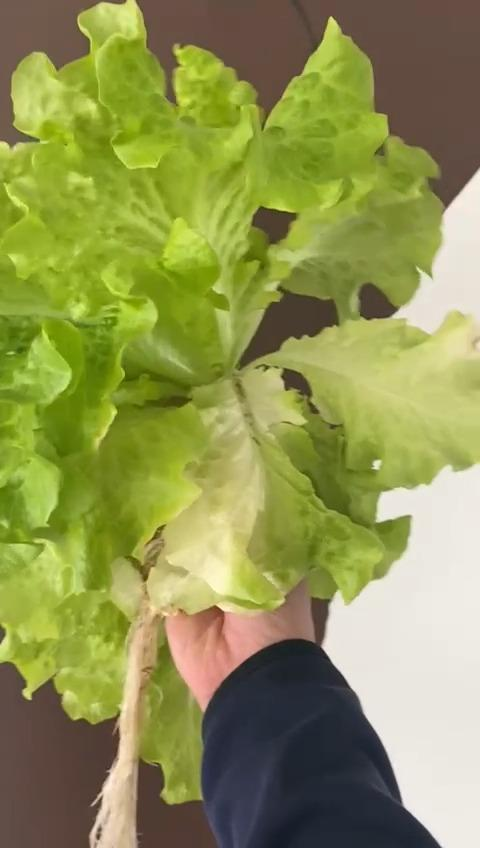Healthy: (0, 0, 480, 804)
